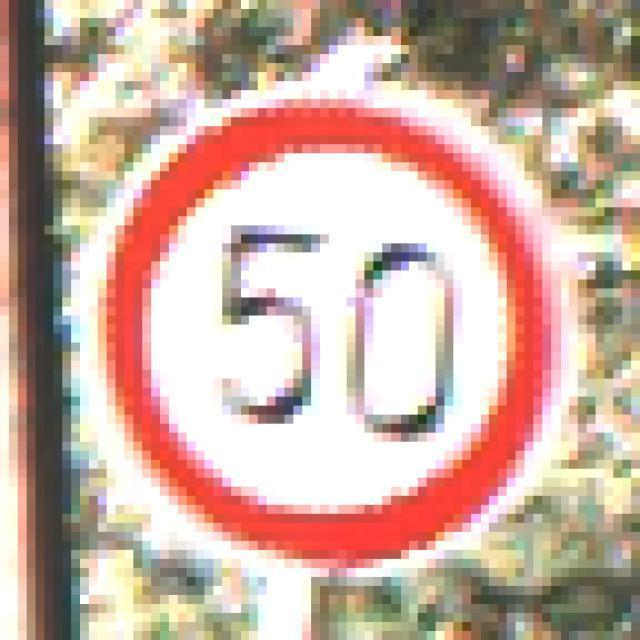Ograniczenie predkosci do 50: (115, 107, 543, 568)
